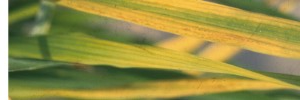RiceTungro: (66, 1, 300, 55), (40, 76, 291, 98)
